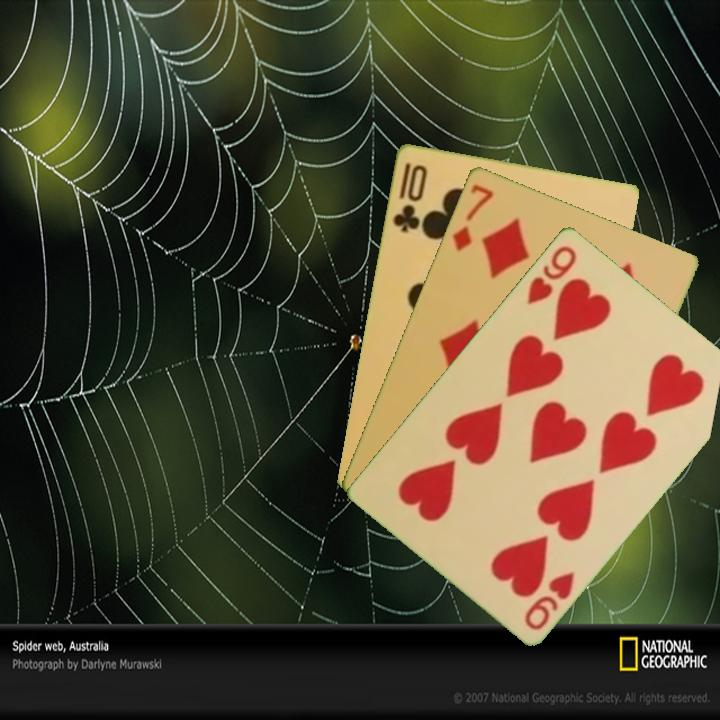10c: (389, 159, 430, 235)
7d: (448, 180, 496, 254)
9h: (520, 567, 578, 633), (523, 241, 580, 307)
